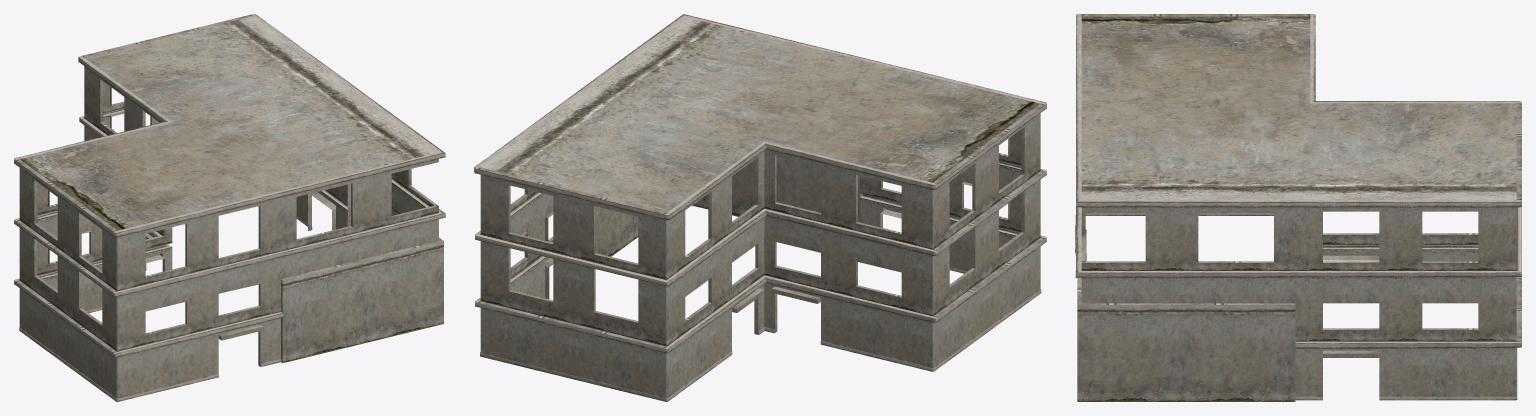
Rendered from warehousebrickc_id_3_wallstuccoa_dm_0_lev1.glb.
3 renders of one model, left to right at view 1: azimuth 30°, elevation 25°; view 2: azimuth 150°, elevation 25°; view 3: azimuth 270°, elevation 25°, orthographic. The views are drawn at different scales.
Visible parts, largest first — view 1: warehousebrickc_id_3_wallstuccoa_dm_0_lev1; view 2: warehousebrickc_id_3_wallstuccoa_dm_0_lev1; view 3: warehousebrickc_id_3_wallstuccoa_dm_0_lev1.
Boxes of the visible parts, <box> form: warehousebrickc_id_3_wallstuccoa_dm_0_lev1: <box>14,14,445,401</box>; warehousebrickc_id_3_wallstuccoa_dm_0_lev1: <box>474,14,1046,401</box>; warehousebrickc_id_3_wallstuccoa_dm_0_lev1: <box>1075,14,1521,401</box>.
Bounding box in the file's own units: 12.29 × 6.07 × 12.29.
1 material, 1 textured.
